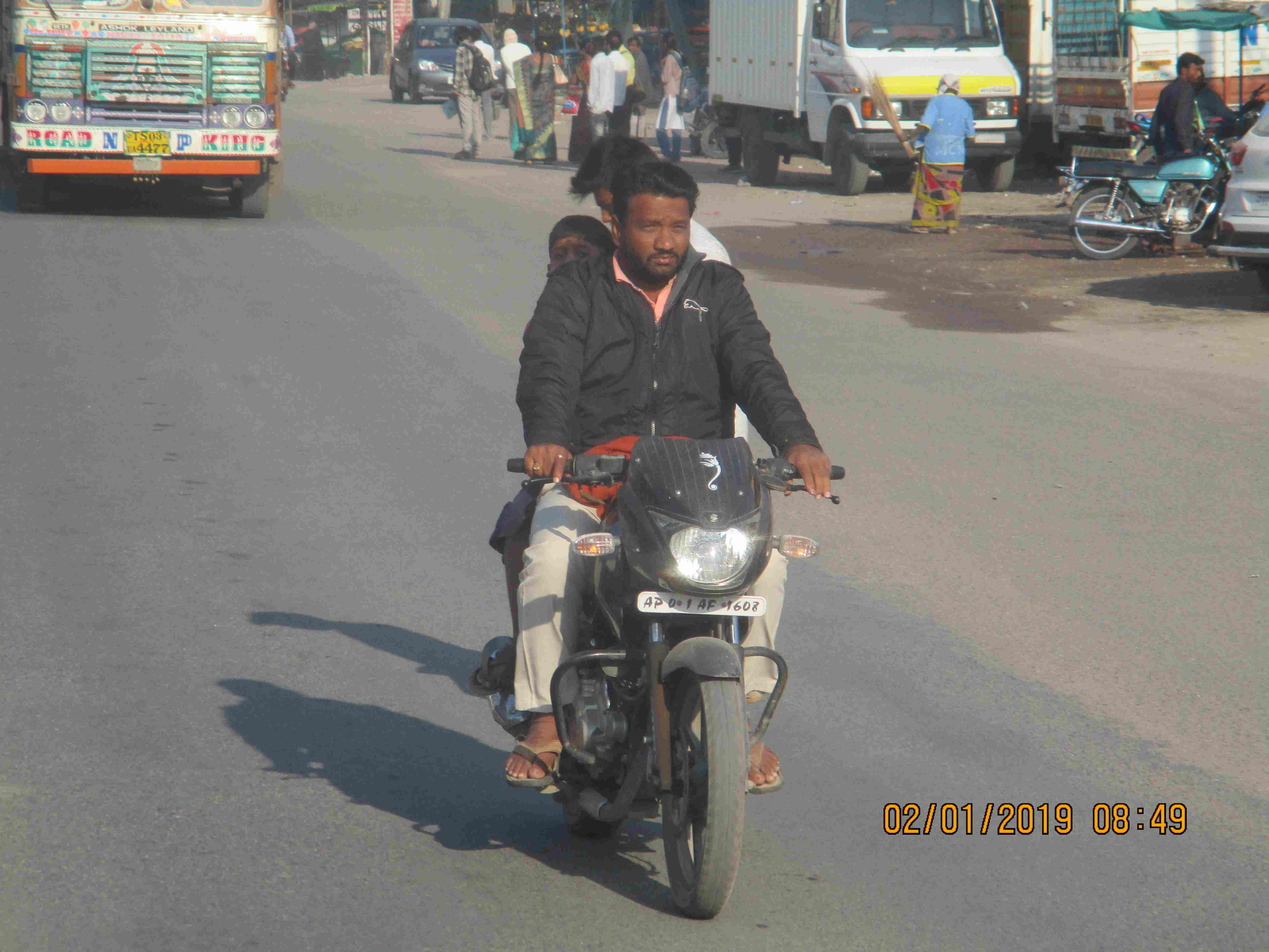plate: (633, 584, 769, 627), (118, 125, 175, 157)
